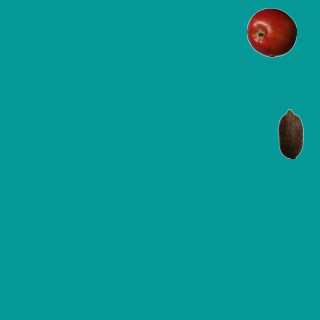Apple Braeburn: (246, 7, 296, 57)
Nut Pecan: (265, 108, 315, 158)
